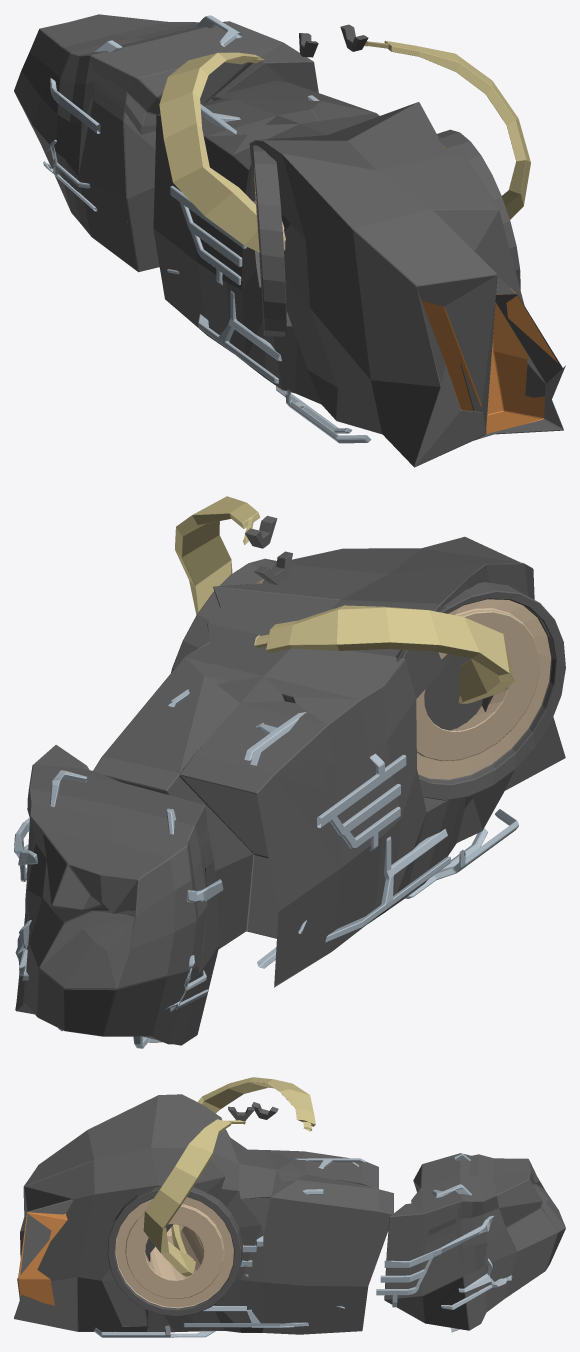
Rendered from fleetship destroyed 3.fbx.
3 views of the same model, one above another, from view 1: azimuth 30°, elevation 25°; view 2: azimuth 150°, elevation 25°; view 3: azimuth 270°, elevation 25° (orthographic). The views are drawn at different scales.
Visible parts, largest first — view 1: Cube.002, Cube.001, Cube.006, Cube.003, Cube.004, Cube.008, Cube.005; view 2: Cube.002, Cube.001, Cube.003, Cube.006, Cube.004, Cube.008, Cube.005, Cube.007, Cube.013; view 3: Cube.002, Cube.001, Cube.003, Cube.006, Cube.020, Cube.018, Cube.007.
Part boxes in pixels (x1=…): Cube.002: x1=153, y1=81, x2=565, y2=467; Cube.001: x1=14, y1=14, x2=318, y2=272; Cube.006: x1=159, y1=40, x2=530, y2=252; Cube.003: x1=252, y1=129, x2=520, y2=336; Cube.004: x1=170, y1=186, x2=246, y2=285; Cube.008: x1=198, y1=290, x2=281, y2=383; Cube.005: x1=276, y1=386, x2=371, y2=443; Cube.002: x1=93, y1=536, x2=565, y2=987; Cube.001: x1=14, y1=745, x2=223, y2=1048; Cube.003: x1=171, y1=558, x2=565, y2=800; Cube.006: x1=175, y1=496, x2=514, y2=703; Cube.004: x1=317, y1=753, x2=406, y2=851; Cube.008: x1=325, y1=829, x2=450, y2=942; Cube.005: x1=405, y1=809, x2=518, y2=898; Cube.007: x1=244, y1=712, x2=306, y2=765; Cube.013: x1=254, y1=551, x2=292, y2=584; Cube.002: x1=14, y1=1094, x2=393, y2=1334; Cube.001: x1=376, y1=1153, x2=565, y2=1332; Cube.003: x1=107, y1=1130, x2=242, y2=1316; Cube.006: x1=143, y1=1077, x2=315, y2=1276; Cube.020: x1=183, y1=1305, x2=308, y2=1327; Cube.018: x1=94, y1=1325, x2=215, y2=1337; Cube.007: x1=295, y1=1158, x2=365, y2=1168.
Size of the model in its own units: 44394 by 43024 by 98016.
